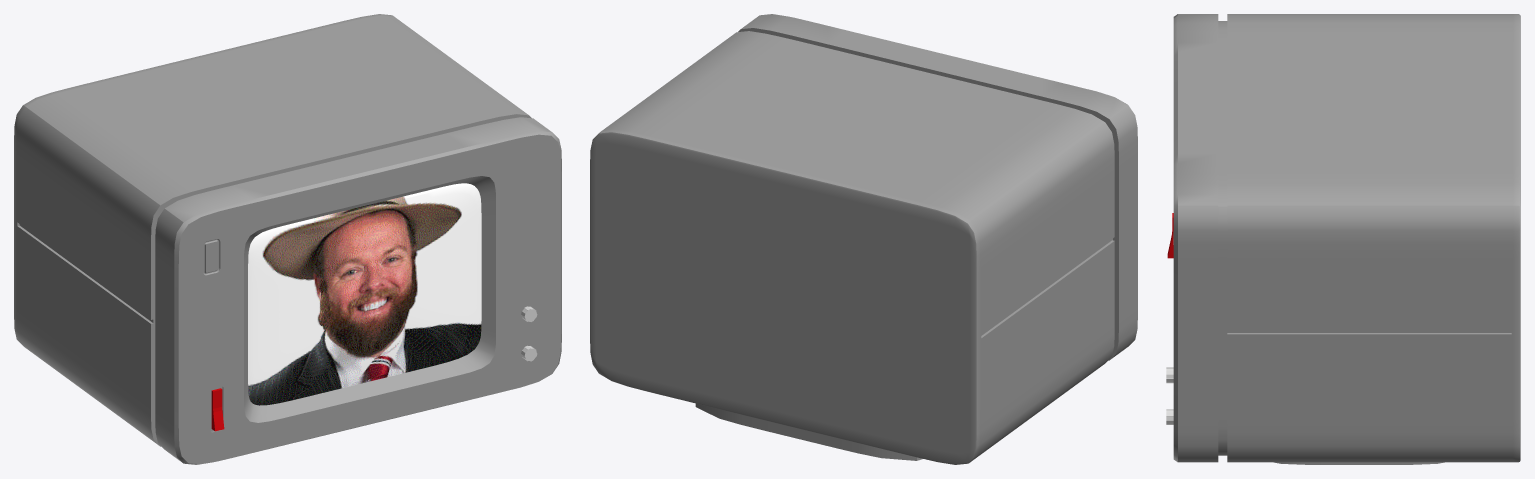
File: testUV10.gltf
3 renders of one model, left to right at view 1: azimuth 30°, elevation 25°; view 2: azimuth 150°, elevation 25°; view 3: azimuth 270°, elevation 25°, orthographic. The views are drawn at different scales.
Parts seen in each view (by area): view 1: Case, Glass; view 2: Case; view 3: Case.
Part boxes in pixels (left/top/right/bottom): Case: left=14, top=14, right=561, bottom=464; Glass: left=248, top=183, right=481, bottom=405; Case: left=590, top=14, right=1137, bottom=464; Case: left=1173, top=14, right=1520, bottom=464.
Size of the model in its own units: 3.2 by 2.2 by 2.38.
3 materials, 1 textured.
